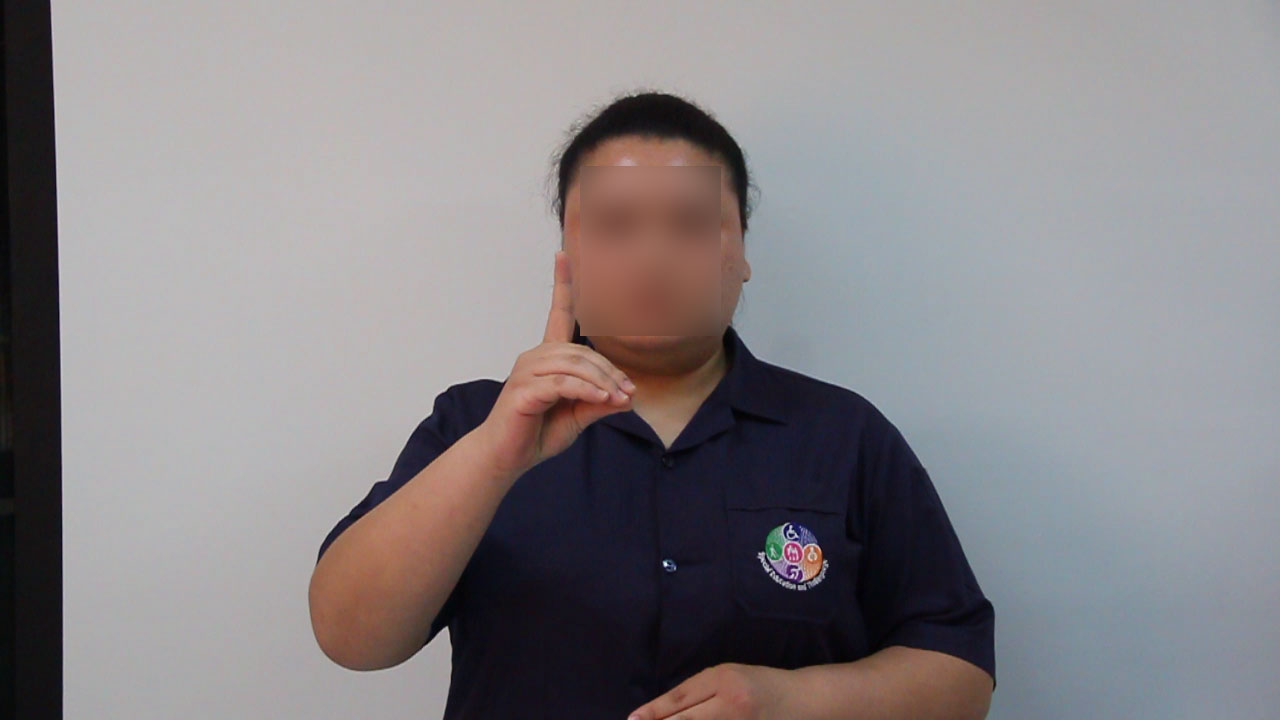dor: (485, 242, 641, 478)
